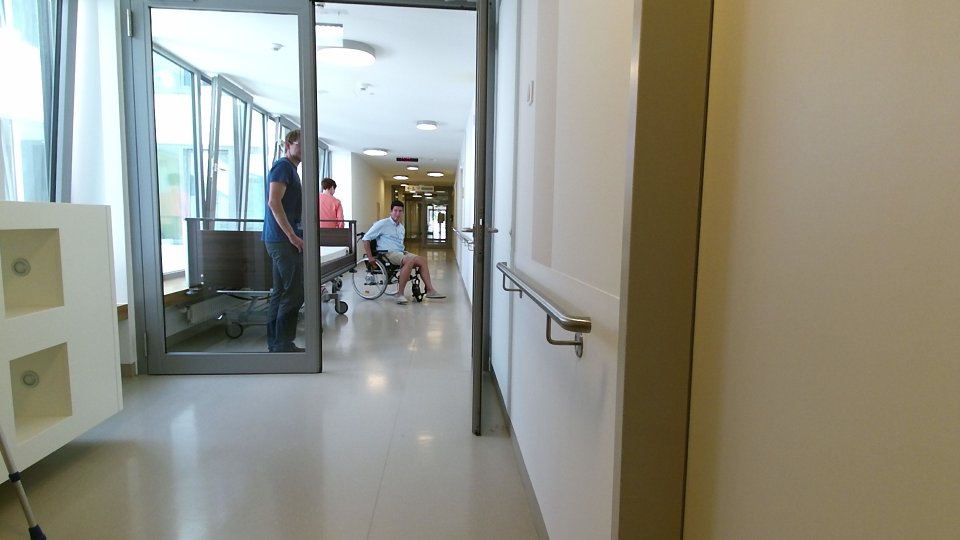wheelchair: (359, 202, 416, 298)
